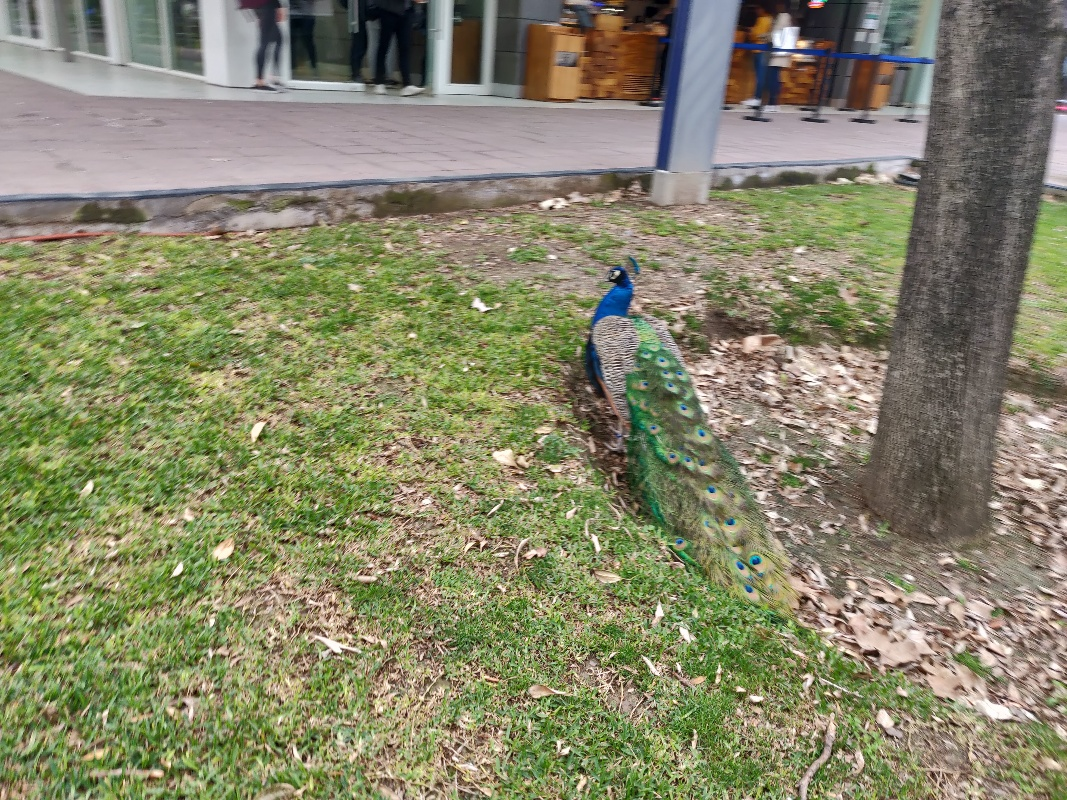pavoreal: (586, 257, 699, 490)
